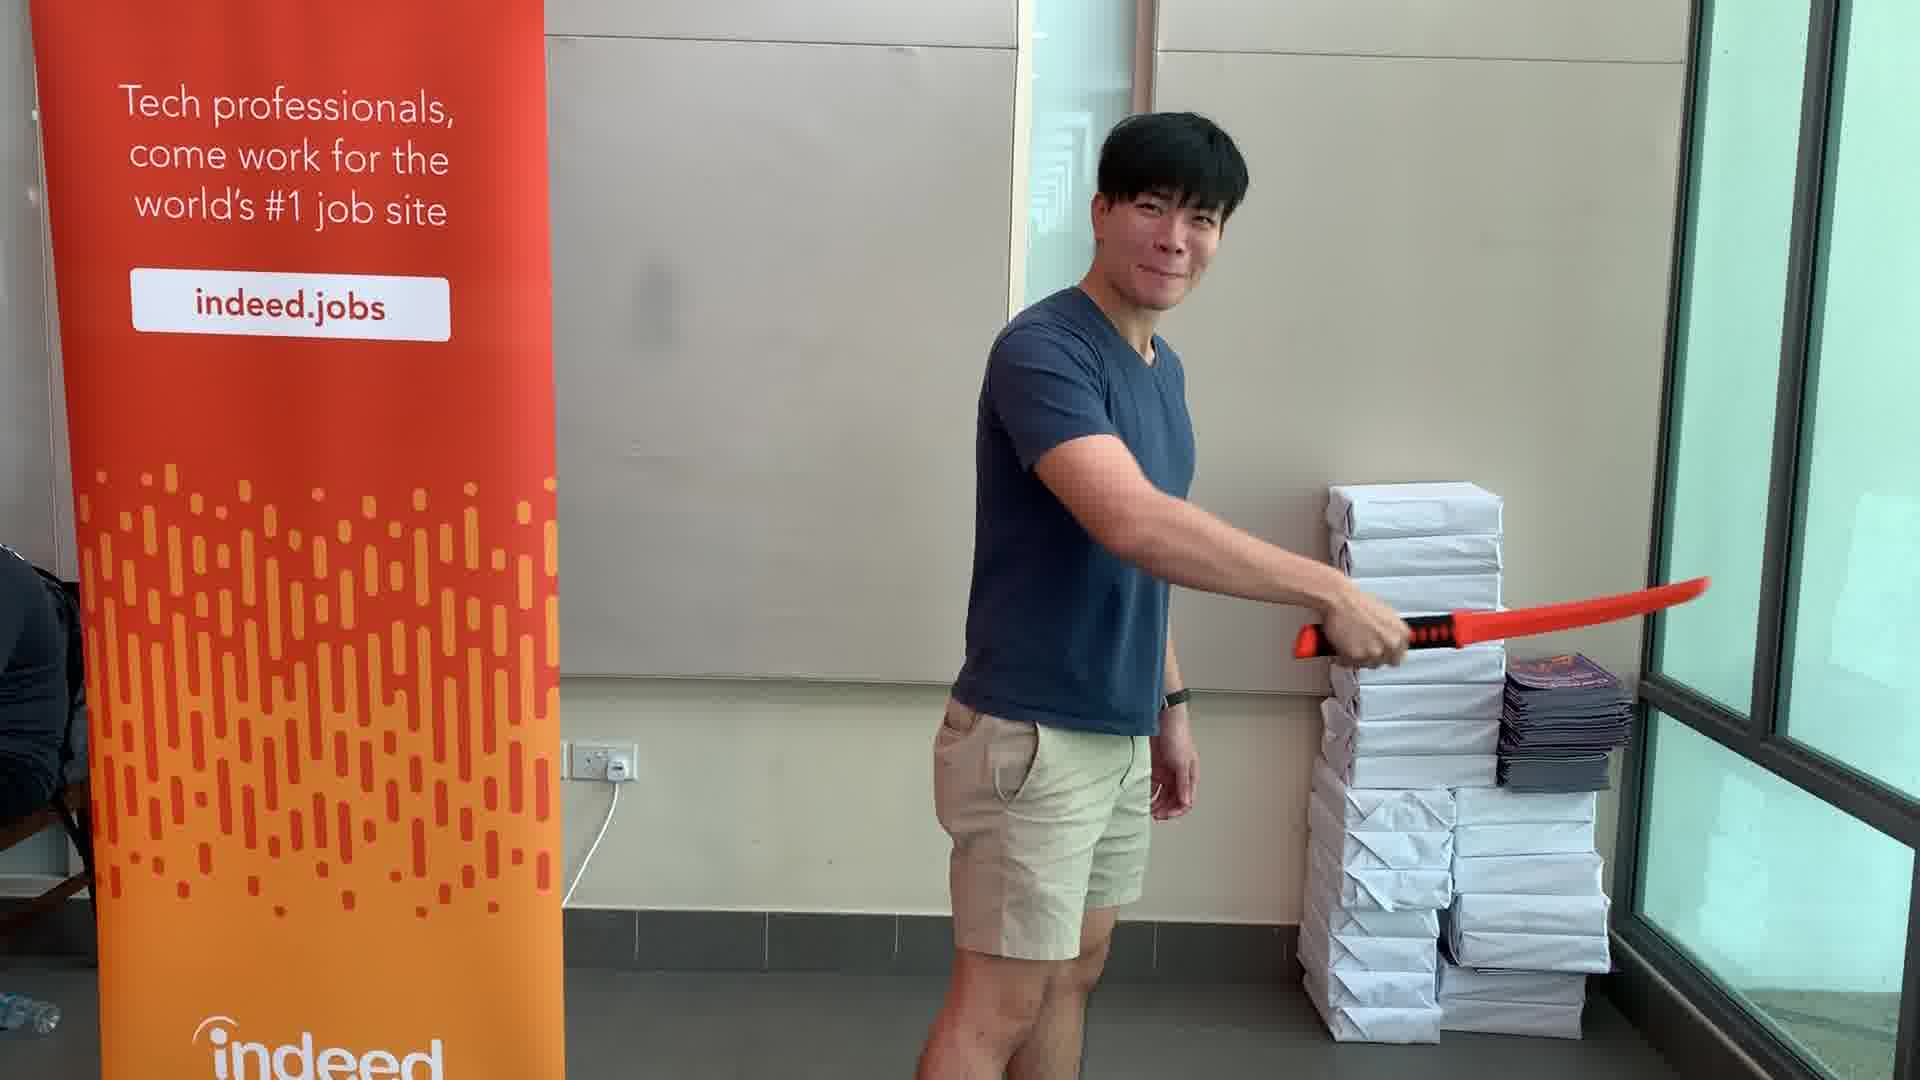knife: (1288, 570, 1714, 669)
